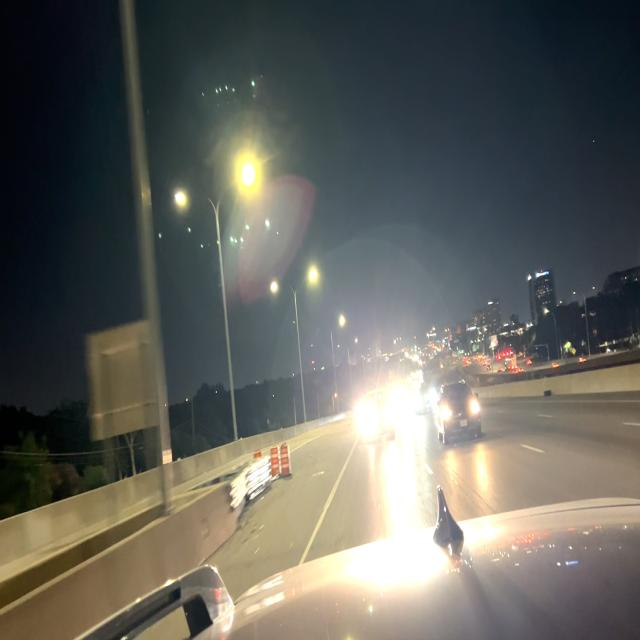back-of-sign: (88, 319, 159, 442)
